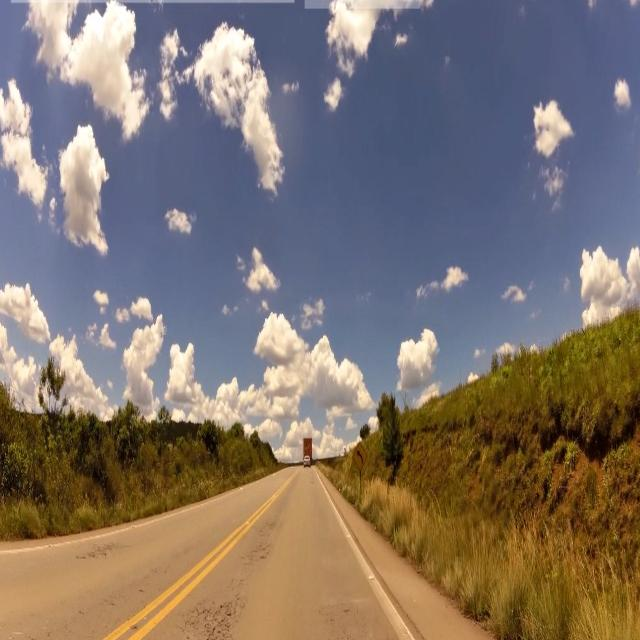A-2a: (351, 443, 369, 471)
